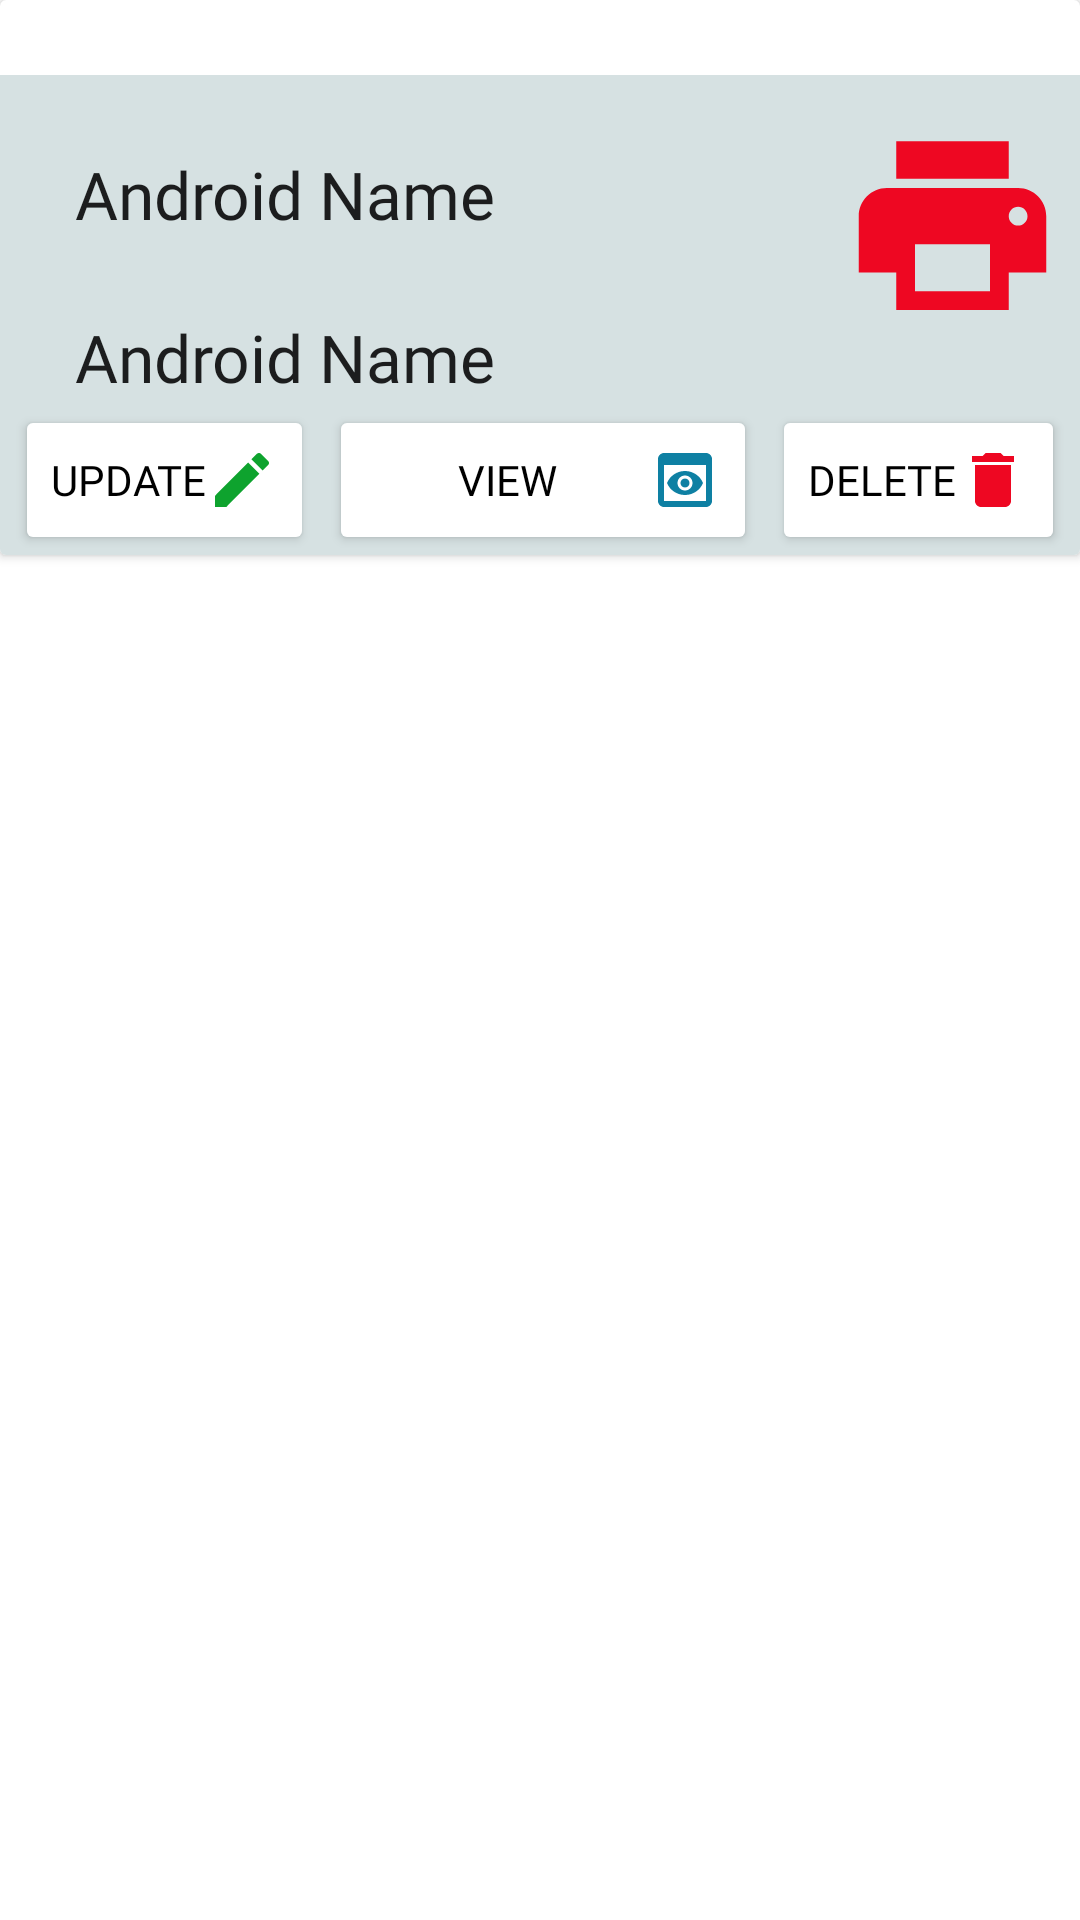

Screen size 1080w x 1920h. Icon name, then its center in pixels as point (x, y):
print: point (952, 225)
